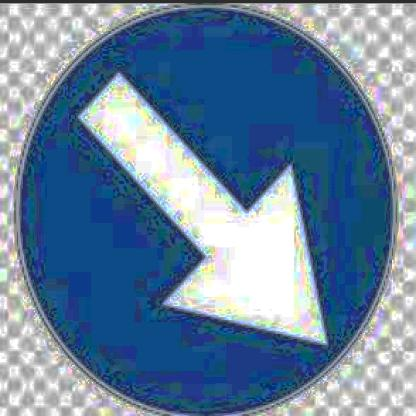Keep right: (8, 1, 401, 416)
